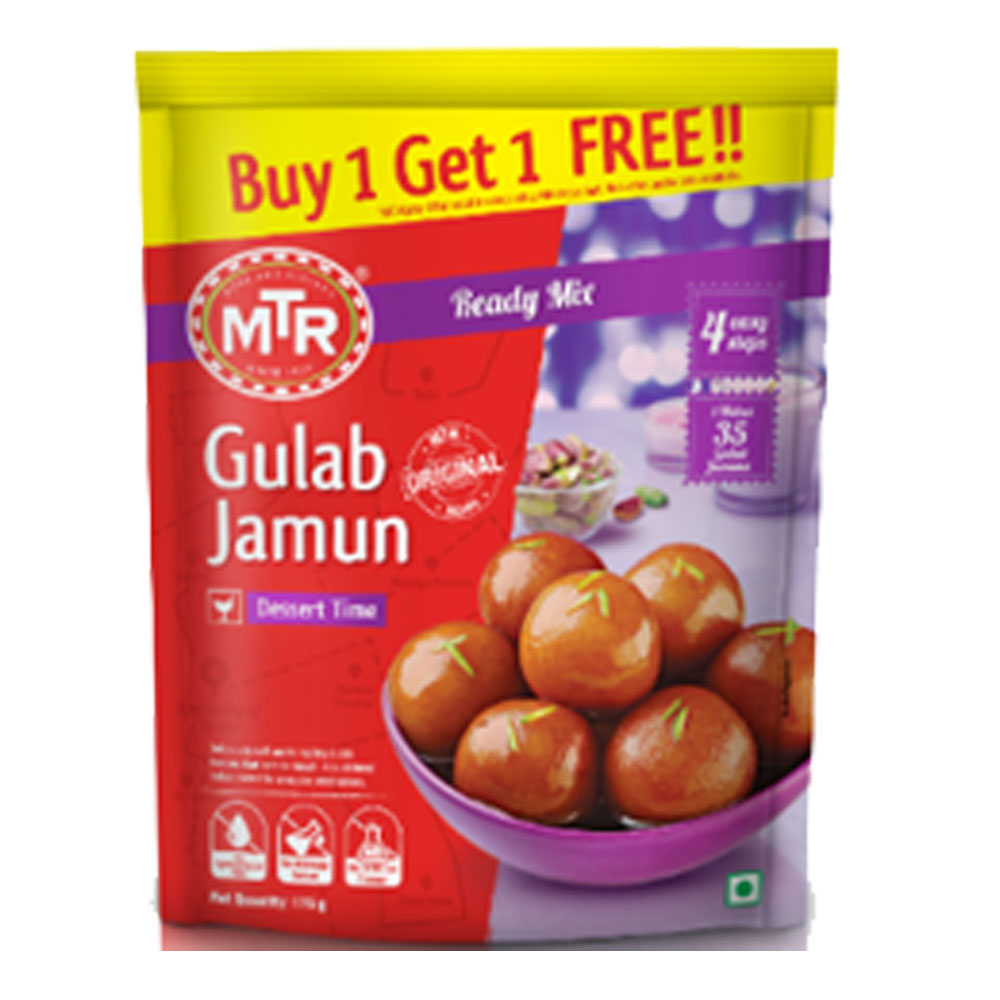VEG: (724, 871, 765, 907)
